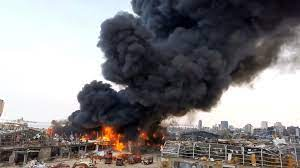smoke: (69, 1, 298, 123)
